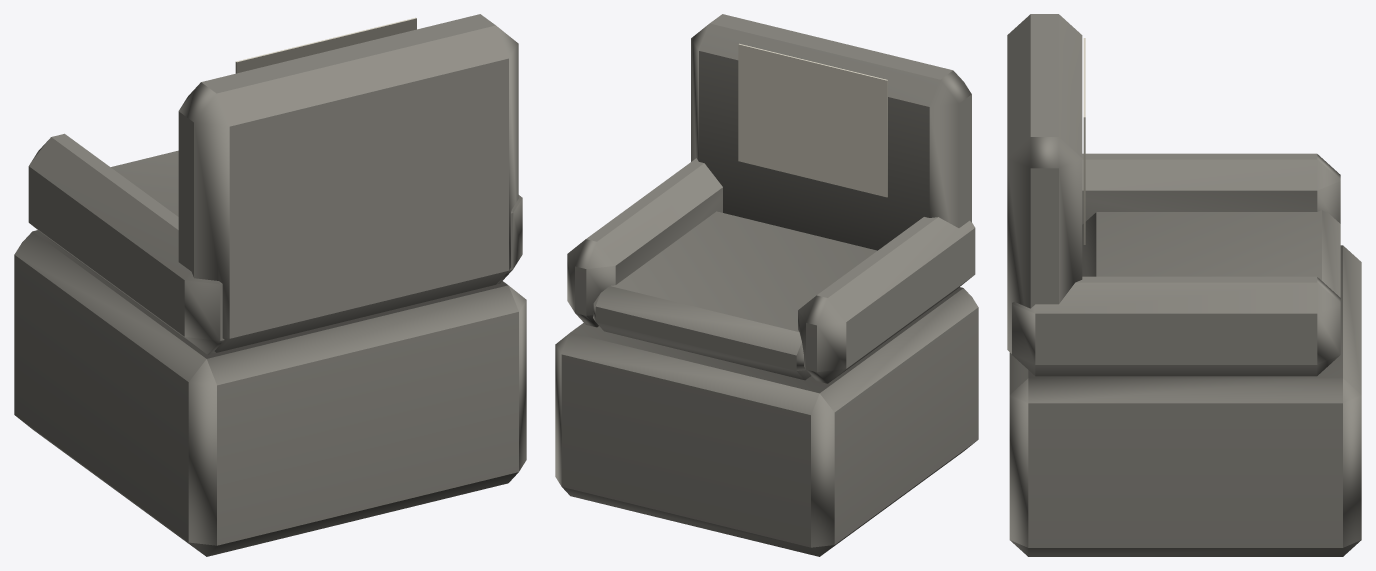
The model's file is armchair.glb.
The picture shows the model from 3 angles, left to right: view 1: azimuth 30°, elevation 25°; view 2: azimuth 150°, elevation 25°; view 3: azimuth 270°, elevation 25°; orthographic projection. The views are drawn at different scales.
Parts seen in each view (by area): view 1: static; view 2: static; view 3: static.
Boxes of the visible parts, box(x1,y1,x2,y2) form: static: box(14, 14, 526, 556); static: box(555, 14, 978, 556); static: box(1007, 14, 1361, 556).
Bounding box in the file's own units: 0.75 × 0.975 × 0.755.
